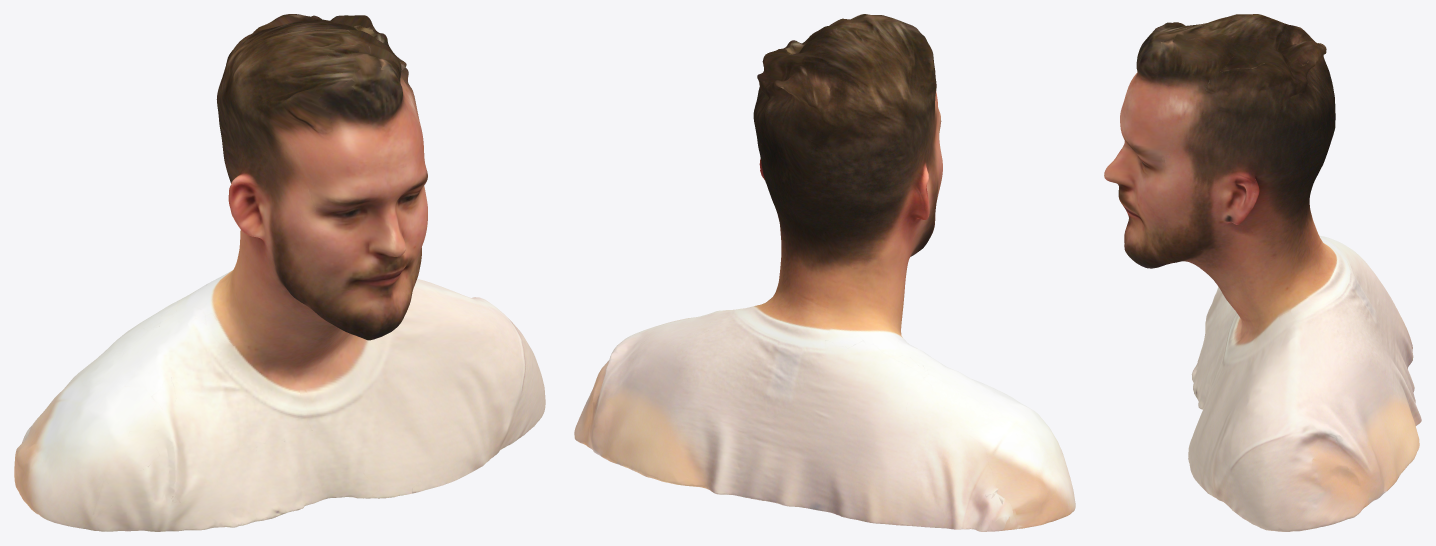
Rendered from arnaud_from_mapado.glb.
3 views of the same model, side by side, from view 1: azimuth 30°, elevation 25°; view 2: azimuth 150°, elevation 25°; view 3: azimuth 270°, elevation 25° (orthographic). The views are drawn at different scales.
Visible parts, largest first — view 1: Object_2; view 2: Object_2; view 3: Object_2.
Boxes of the visible parts, x1,y1,x2,y2 form: Object_2: [14, 14, 545, 531]; Object_2: [574, 14, 1075, 531]; Object_2: [1104, 14, 1421, 531].
Bounding box in the file's own units: 0.525 × 0.4492 × 0.3176.
1 material, 1 textured.
